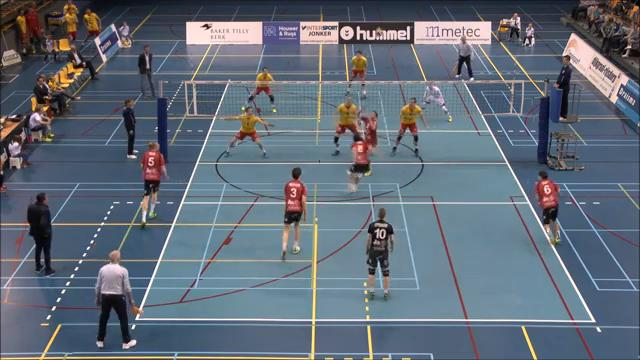alzata: (355, 103, 378, 157)
